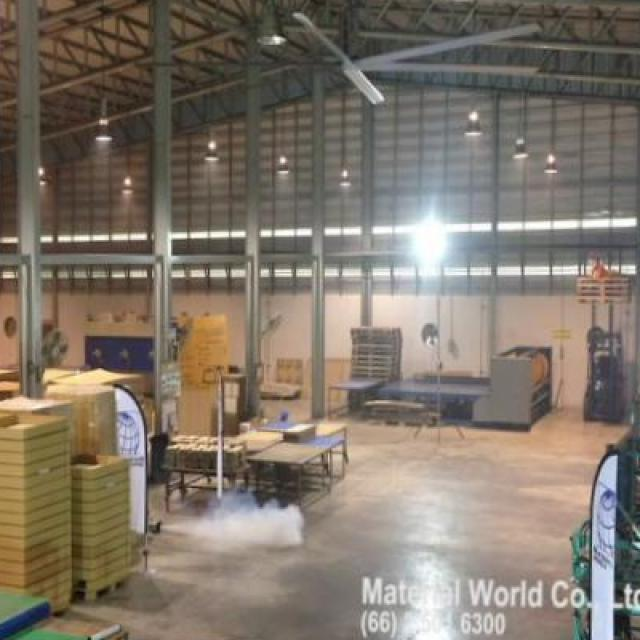fire: (189, 484, 309, 558)
